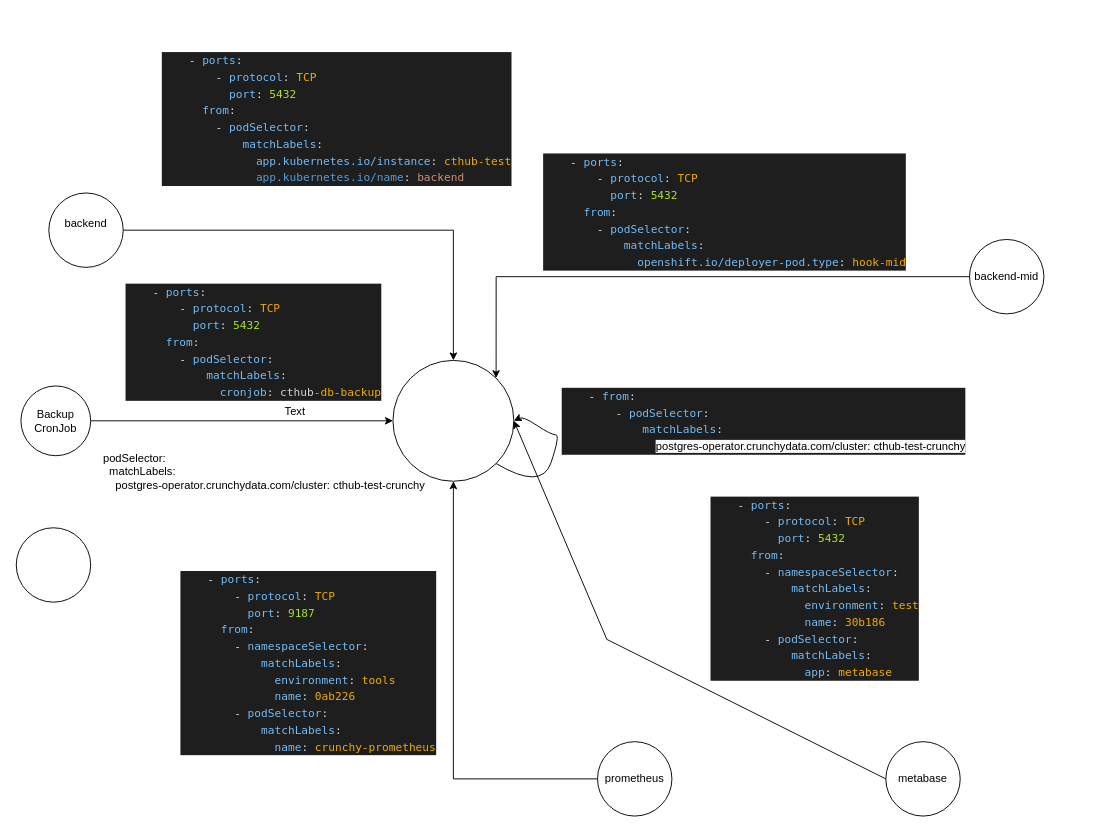
The diagram is 1107 pixels wide and 832 high, and some of its shapes have lost their labels. The shapes that lost their labels are listed below. From the top down, each one's centre as x and y in pixels, then its label:
At (453,420): "CrunchyDB".
At (53,564): "frontend".
